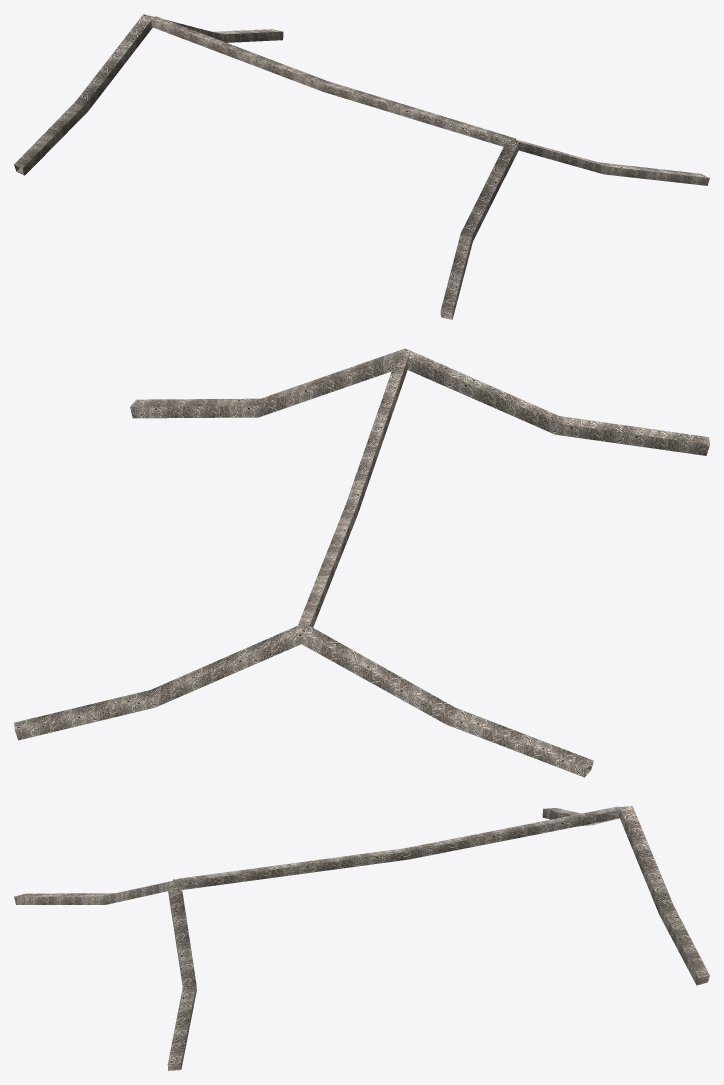
3 views of the same model, one above another, from view 1: azimuth 30°, elevation 25°; view 2: azimuth 150°, elevation 25°; view 3: azimuth 270°, elevation 25° (orthographic). The views are drawn at different scales.
Parts seen in each view (by area): view 1: Box295; view 2: Box295; view 3: Box295.
Part boxes in pixels (x1=…): Box295: x1=14, y1=14, x2=709, y2=319; Box295: x1=14, y1=348, x2=709, y2=777; Box295: x1=14, y1=806, x2=709, y2=1070.
Bounding box in the file's own units: 446 × 76.68 × 512.
